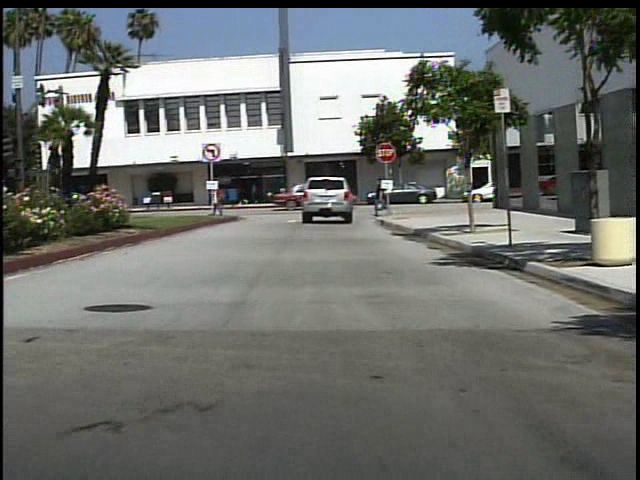person: (372, 174, 395, 219), (220, 190, 221, 218), (256, 179, 257, 205)
